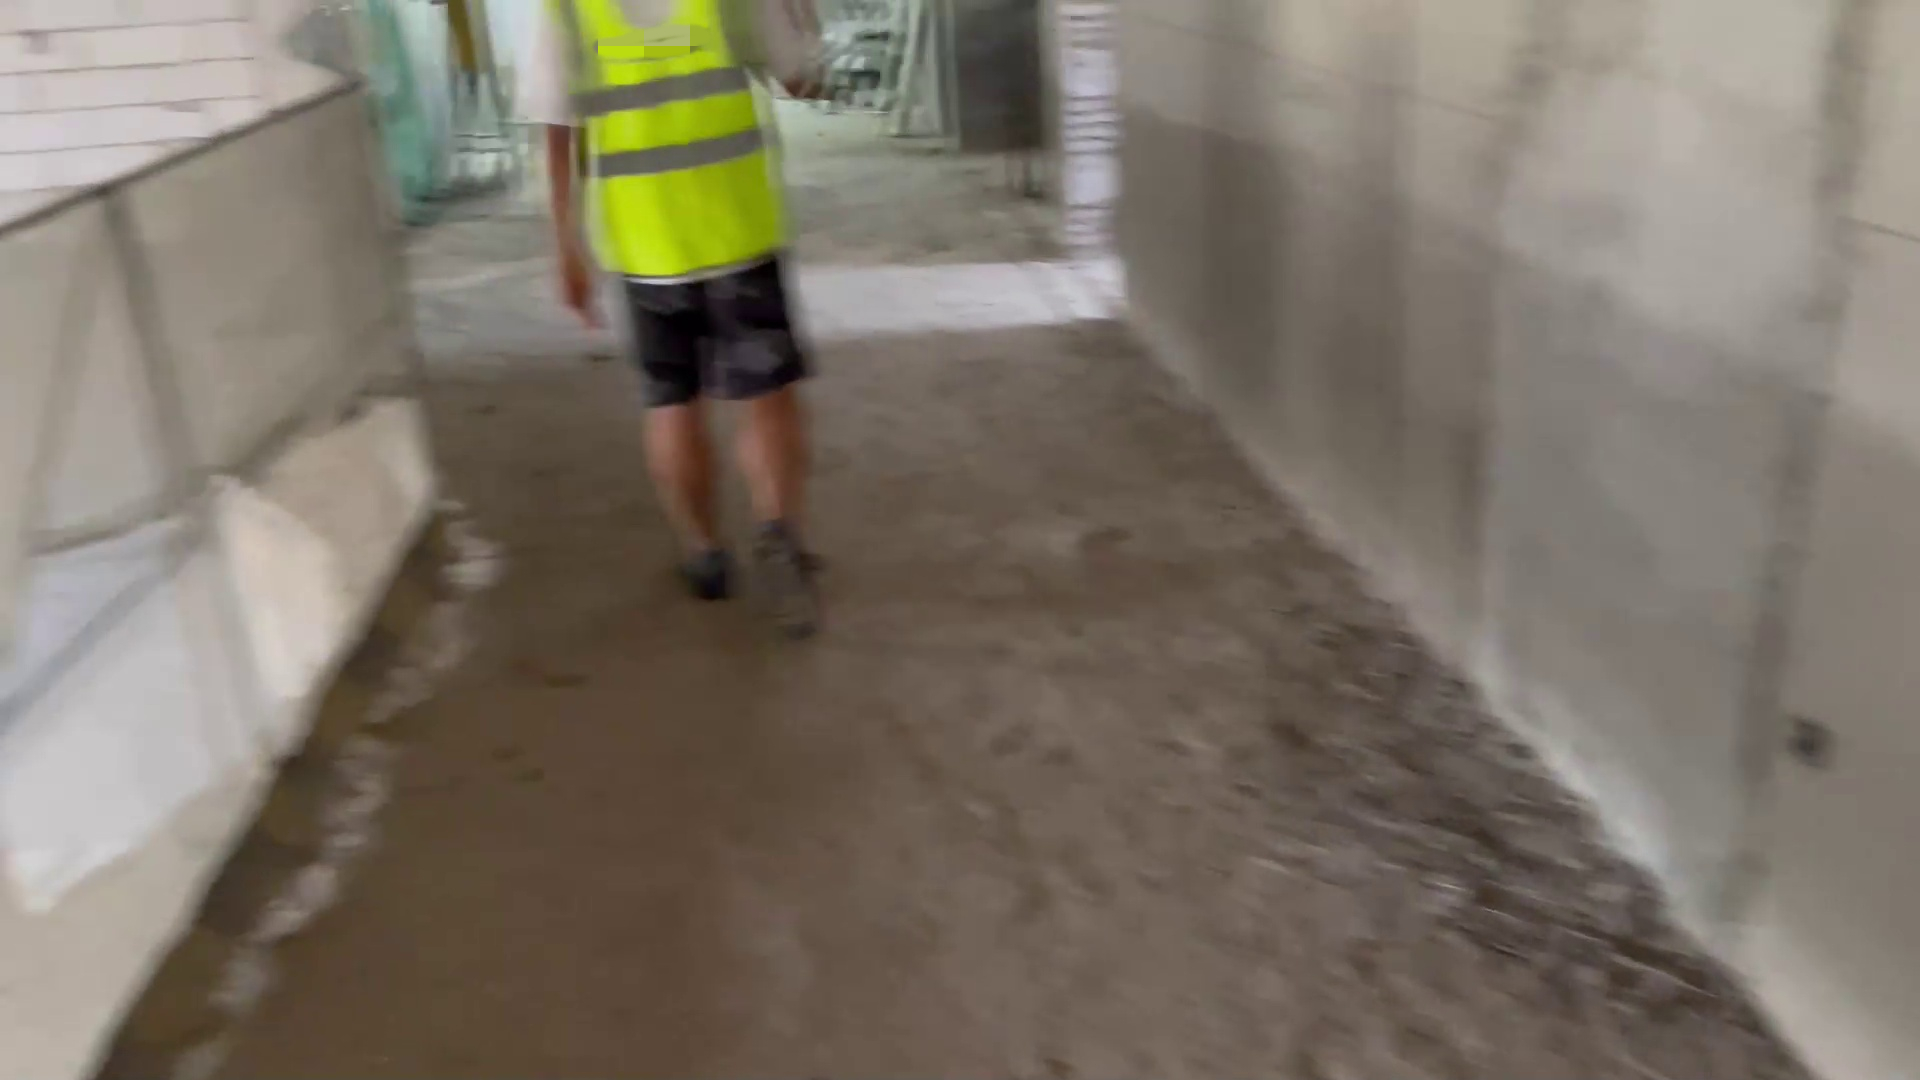person: (508, 1, 855, 630)
vest: (557, 3, 801, 274)
